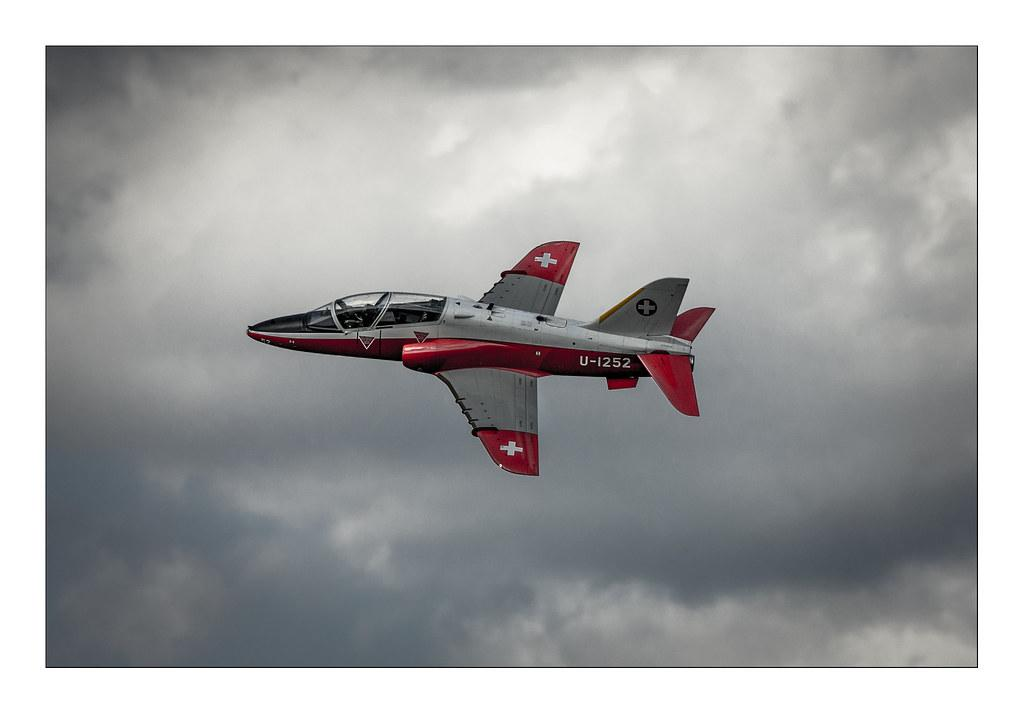plane: (246, 239, 717, 477)
